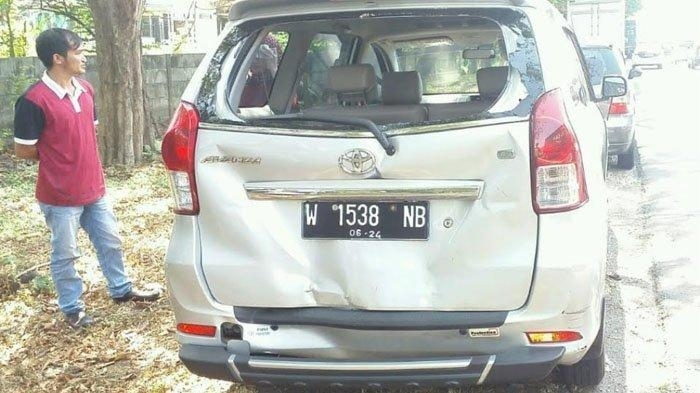plate: (300, 200, 432, 242)
